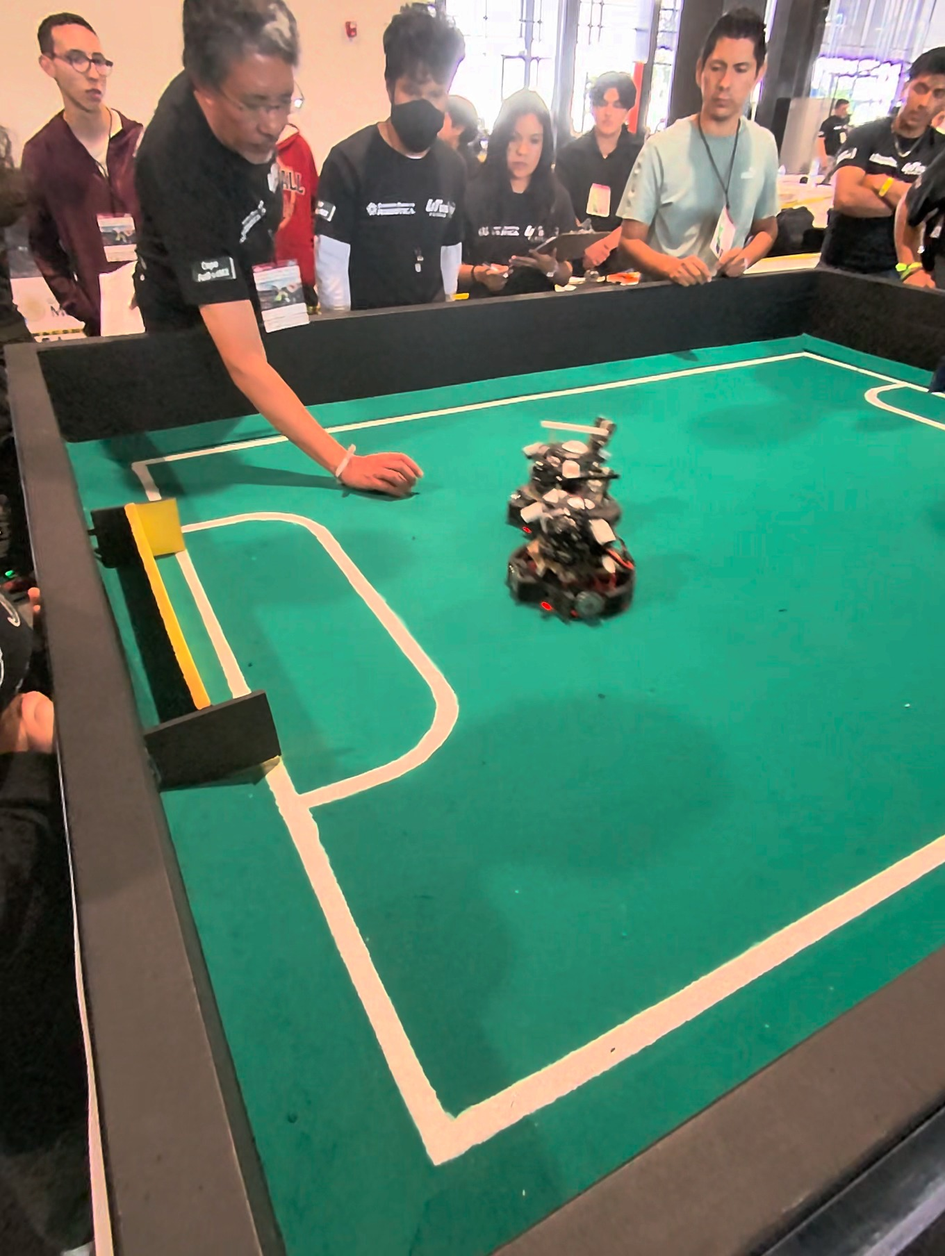Robot: (497, 493, 639, 634), (493, 422, 629, 512)
